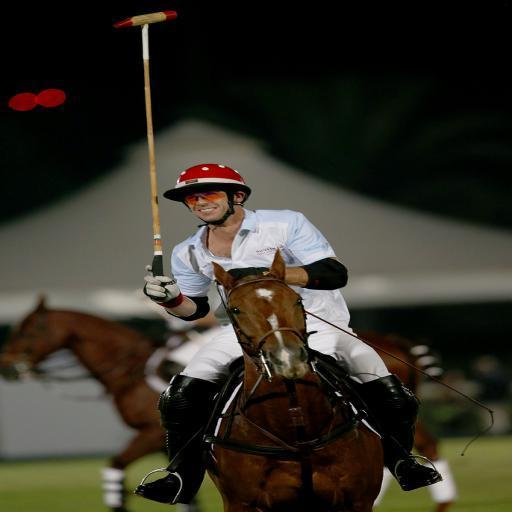horse: (0, 292, 458, 512), (204, 245, 384, 511)
